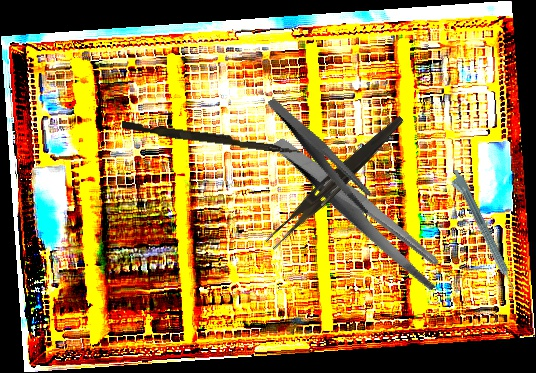Dressing Forceps: (271, 104, 450, 319), (264, 108, 407, 255), (266, 78, 379, 231)
Handpiece: (446, 167, 518, 294)
Pusher: (120, 121, 303, 155)
